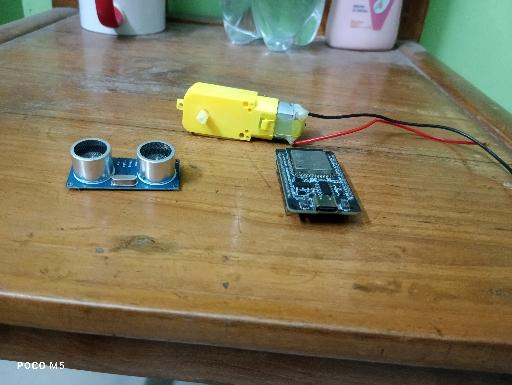Esp32: (275, 148, 361, 216)
Motor: (177, 82, 309, 145)
sensor: (65, 138, 180, 191)
